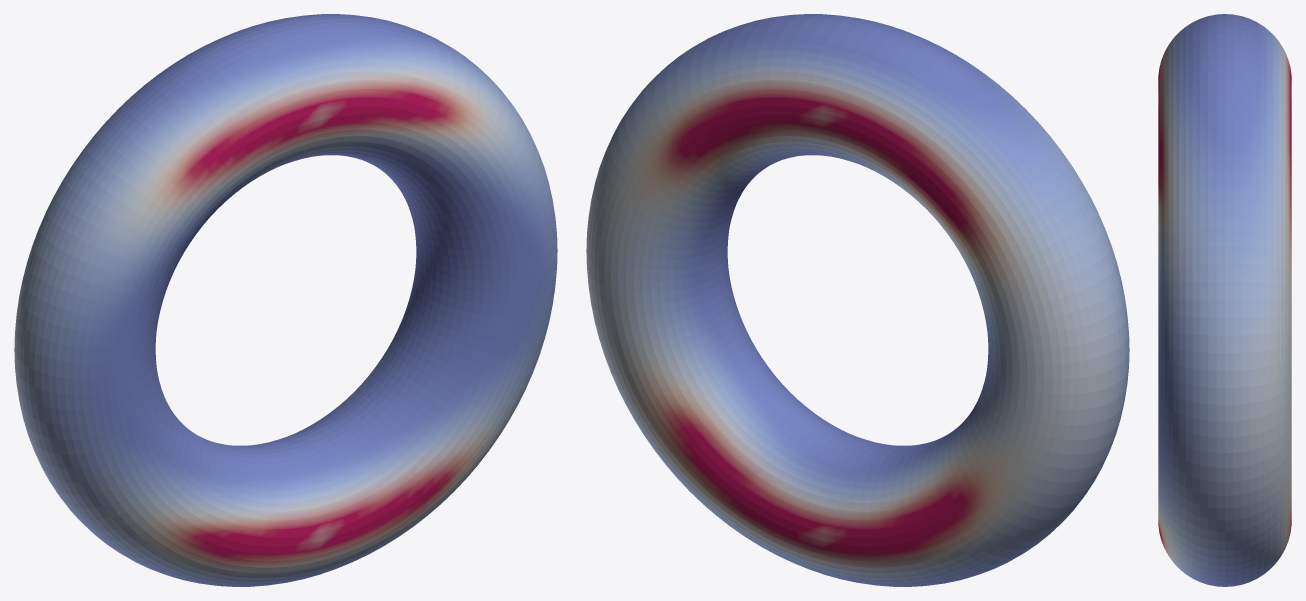
3 views of the same model, side by side, from view 1: azimuth 30°, elevation 25°; view 2: azimuth 150°, elevation 25°; view 3: azimuth 270°, elevation 25° (orthographic). The views are drawn at different scales.
Visible parts, largest first — view 1: world; view 2: world; view 3: world.
Part boxes in pixels (bbox=[...]): world: bbox=[14, 14, 557, 586]; world: bbox=[586, 14, 1129, 586]; world: bbox=[1158, 14, 1291, 586].
Bounding box in the file's own units: 20 × 20 × 4.66.
